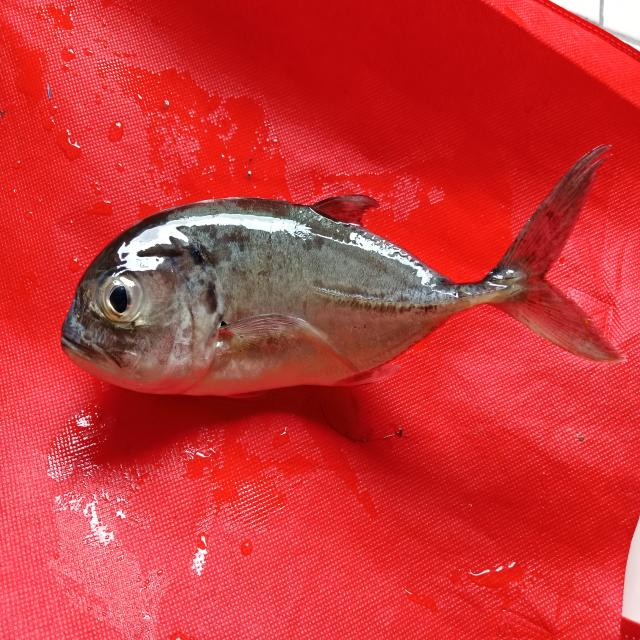ikan: (53, 130, 632, 402)
